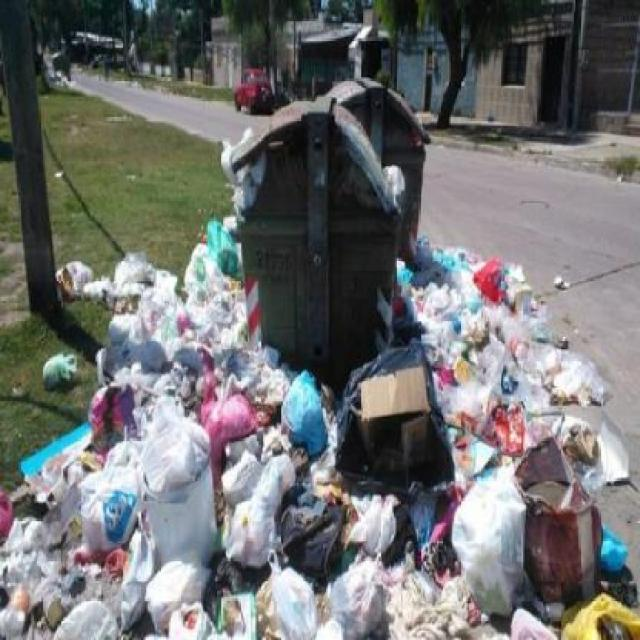garbage: (90, 262, 633, 639), (0, 396, 102, 639), (200, 146, 258, 287), (403, 225, 489, 284)
